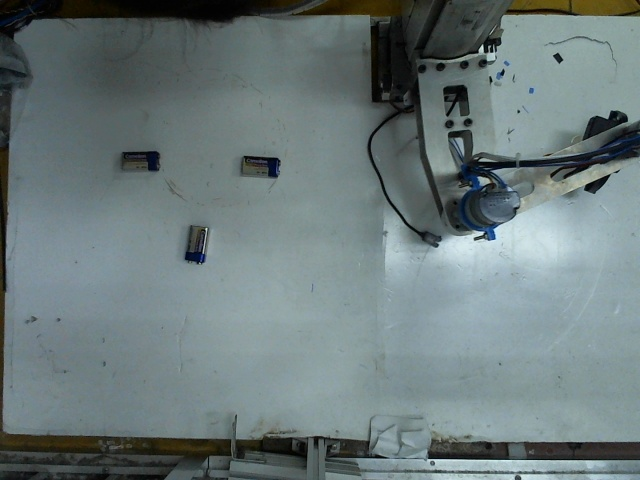battery: (181, 219, 211, 263), (114, 145, 159, 170), (236, 151, 280, 176)
